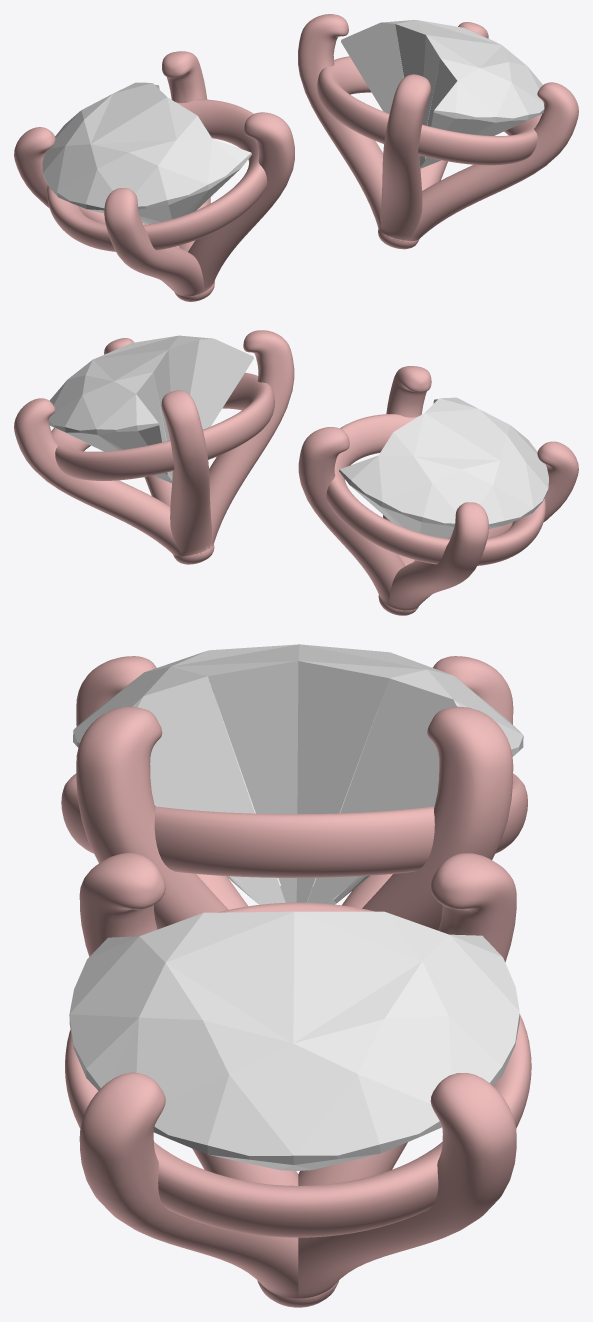
The model's file is Round-SideStones.glb.
The picture shows the model from 3 angles, top to bottom: view 1: azimuth 30°, elevation 25°; view 2: azimuth 150°, elevation 25°; view 3: azimuth 270°, elevation 25°; orthographic projection. The views are drawn at different scales.
Parts seen in each view (by area): view 1: diamond.004; view 2: diamond.004; view 3: diamond.004.
Boxes of the visible parts, x1,y1,x2,y2 form: diamond.004: [14, 14, 578, 301]; diamond.004: [14, 330, 578, 615]; diamond.004: [61, 644, 531, 1307].
Bounding box in the file's own units: 7.95 × 3.3 × 3.4.
